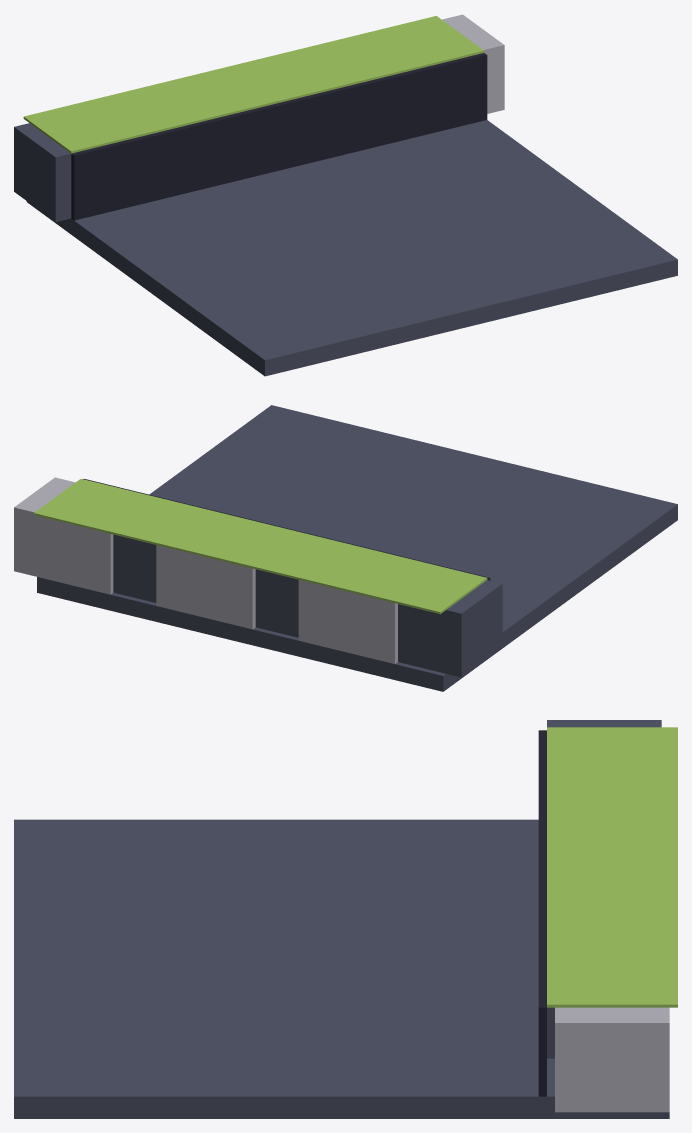
File: terrain_tile_cliff_wall.glb
3 renders of one model, top to bottom at view 1: azimuth 30°, elevation 25°; view 2: azimuth 150°, elevation 25°; view 3: azimuth 270°, elevation 25°, orthographic. The views are drawn at different scales.
Parts seen in each view (by area): view 1: terrain_tile_cliff_wall; view 2: terrain_tile_cliff_wall; view 3: terrain_tile_cliff_wall.
Boxes of the visible parts, x1,y1,x2,y2 form: terrain_tile_cliff_wall: (14, 14, 677, 376); terrain_tile_cliff_wall: (14, 405, 677, 691); terrain_tile_cliff_wall: (14, 720, 677, 1118).
Size of the model in its own units: 8.75 by 1.54 by 8.1.
